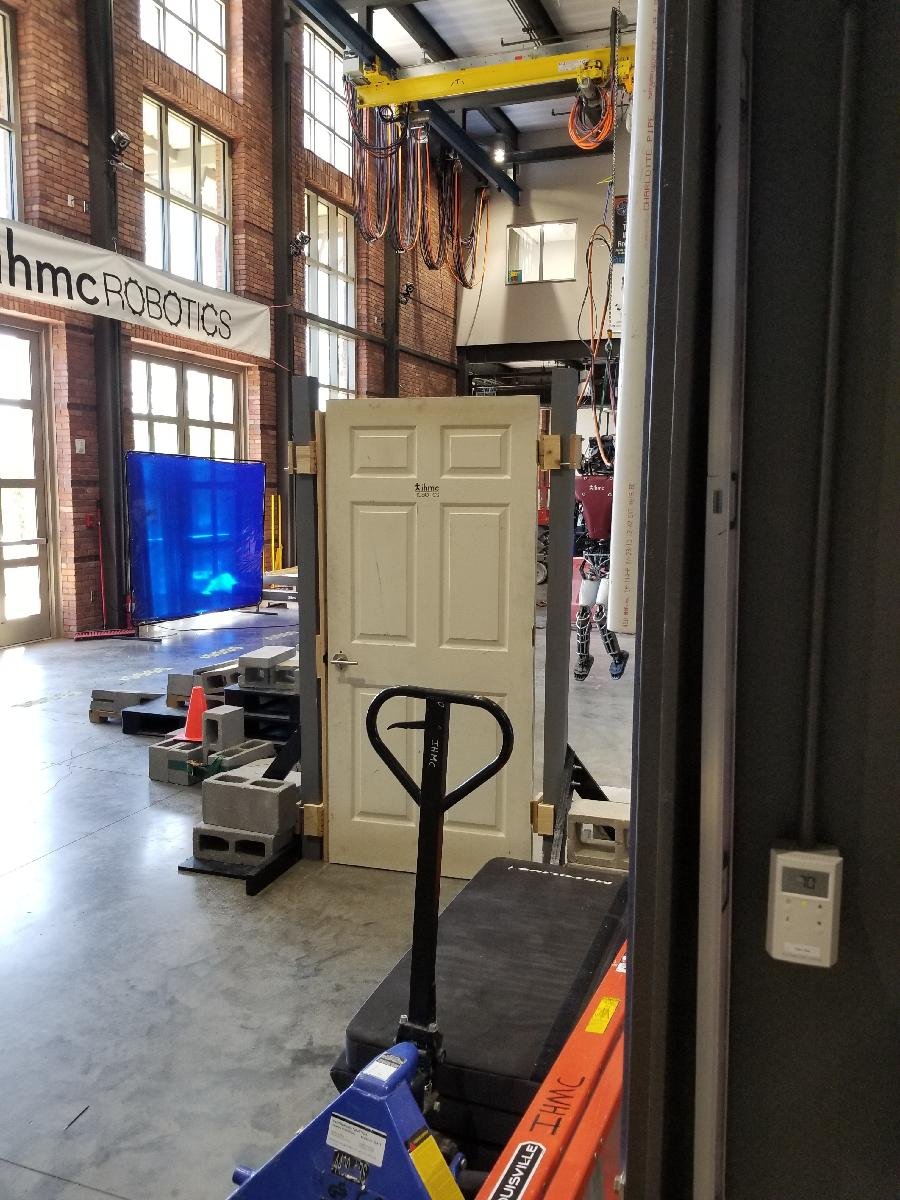door: (320, 396, 543, 894)
doorHandle: (320, 651, 360, 675)
